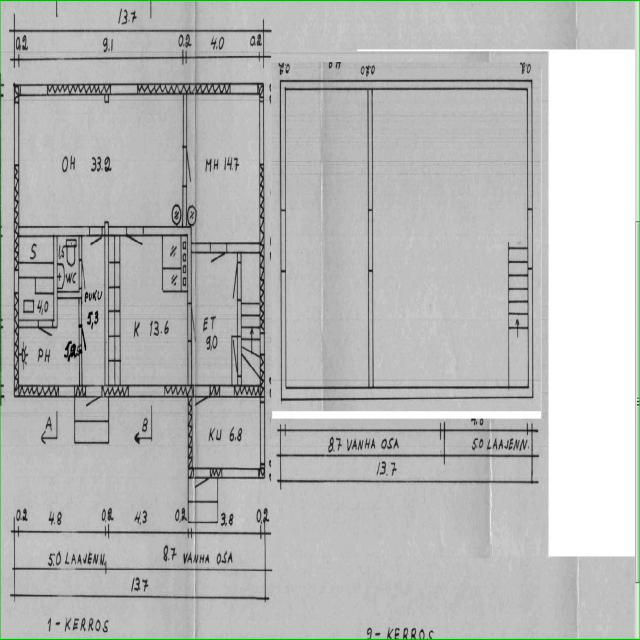door: (182, 146, 205, 187), (193, 386, 210, 436), (193, 467, 210, 516), (210, 243, 227, 291), (221, 337, 242, 375), (127, 226, 143, 273), (188, 303, 208, 340), (86, 385, 101, 432), (222, 263, 242, 298), (38, 320, 52, 358), (90, 226, 102, 265), (79, 259, 94, 288), (79, 325, 93, 350)
